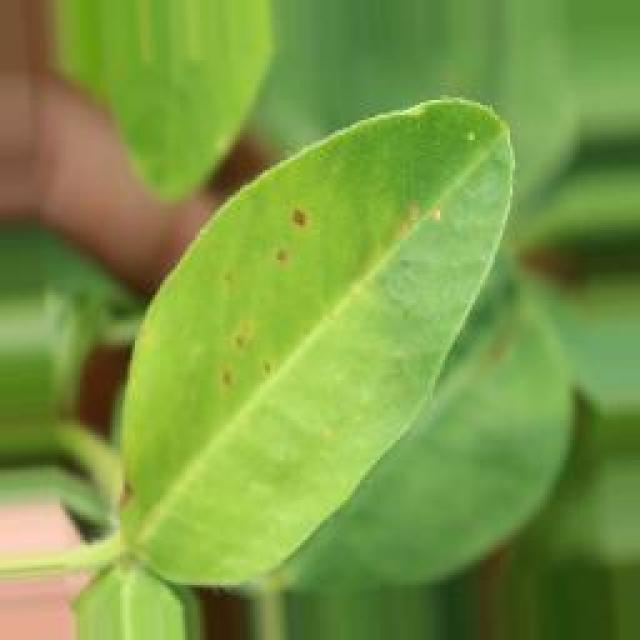Sigatoka: (207, 309, 314, 399), (263, 189, 337, 306), (92, 447, 163, 541)
